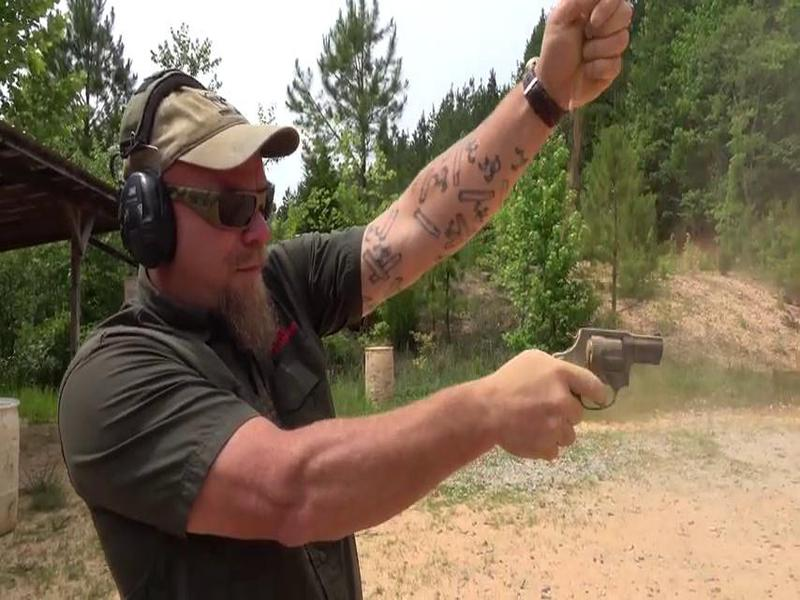Revolver: (524, 314, 678, 424)
